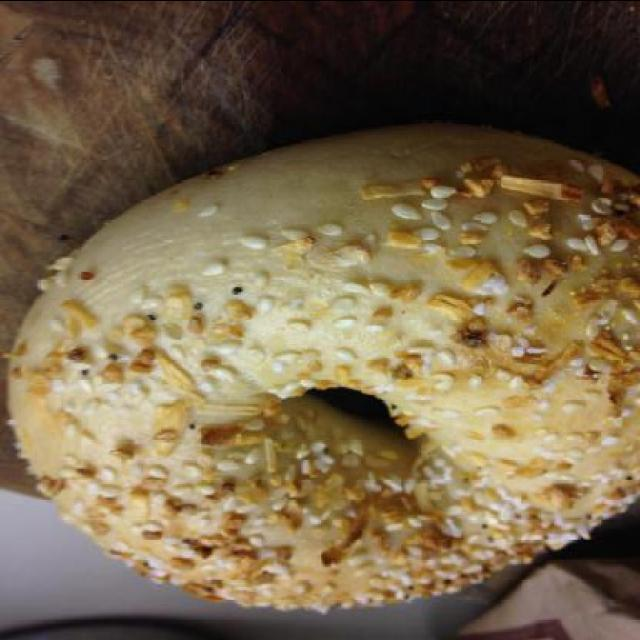Bagel: (3, 127, 635, 610)
